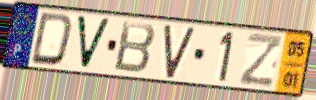1: (217, 30, 235, 84)
B: (112, 20, 158, 76)
D: (28, 11, 75, 69)
V: (74, 13, 113, 72), (162, 24, 197, 81)
Z: (237, 31, 284, 89)
